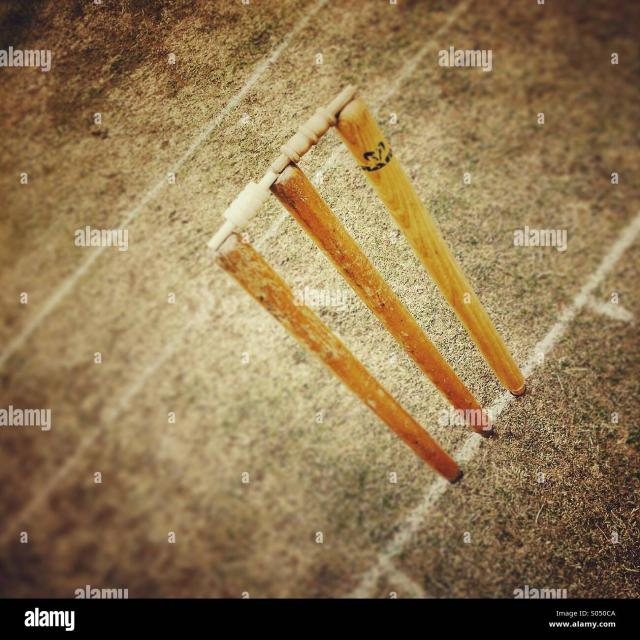stump: (202, 75, 530, 485)
